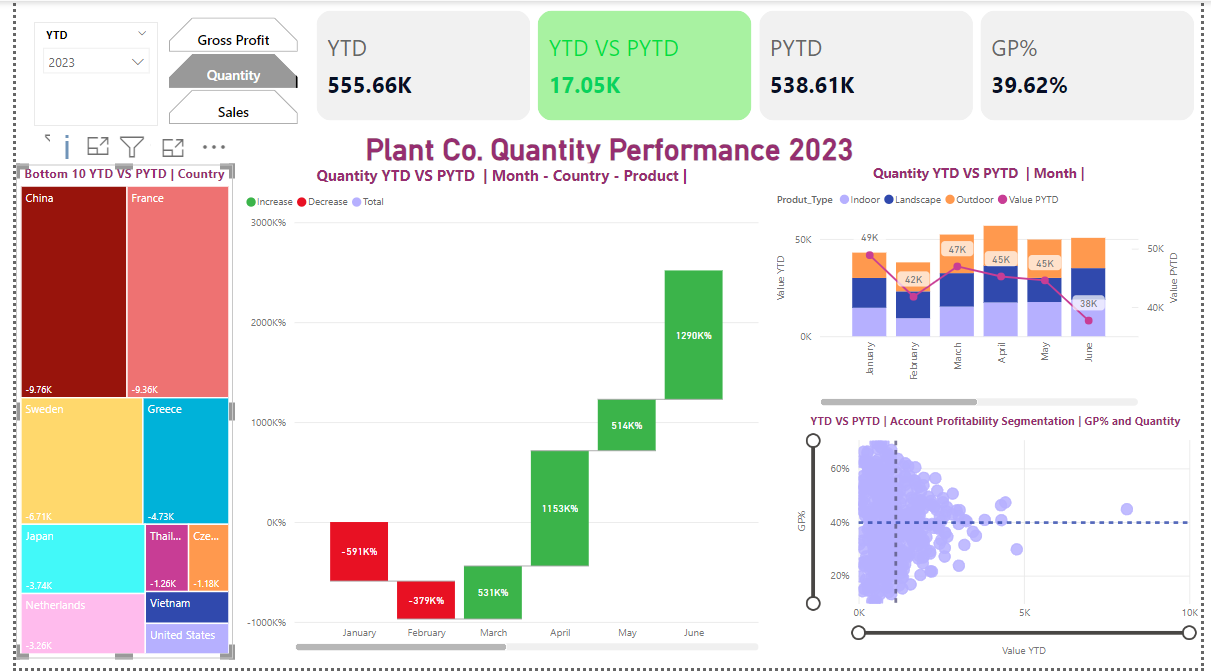

Layout of this report page (visuals, bound fields, positions):
{"tool":"powerbi","page":{"name":"Performance Report Plant Co.","canvas":[1280,720],"ordinal":1},"visuals":[{"type":"advancedSlicerVisual","fields":{"Values":["Slc_Values.Values"]},"box":[165.2,17.8,139.3,116.6],"z":0},{"type":"slicer","title":"YTD","fields":{"Values":["Dim_Date.Date.Variation.Date Hierarchy.Year"]},"box":[19.4,22.7,134.4,111.7],"z":1000},{"type":"treemap","title":"Bottom 10 YTD VS PYTD | Country","fields":{"Group":["Dim_Account.country"],"Values":["_Measures.YTD VS PYTD"]},"box":[0,175.7,234.3,532.9],"z":2000},{"type":"waterfallChart","fields":{"Y":["_Measures.YTD VS PYTD"],"Category":["Dim_Date.Date.Variation.Date Hierarchy.Month","Dim_Account.country","Dim_Product.Produt_Type","Dim_Product.Product_Name"]},"box":[242.9,176.5,563.5,529.5],"z":3000},{"type":"lineStackedColumnComboChart","fields":{"Y":["_Measures.S_YTD"],"Y2":["_Measures.S_PYTD"],"Category":["Dim_Date.Date.Variation.Date Hierarchy.Quarter","Dim_Date.Date.Variation.Date Hierarchy.Month"],"Series":["Dim_Product.Produt_Type"]},"box":[816.7,175,446.7,266.7],"z":4000},{"type":"cardVisual","fields":{"Data":["_Measures.S_YTD","_Measures.YTD VS PYTD","_Measures.S_PYTD","_Measures.GP%"]},"box":[319,4.9,961.8,129.5],"z":5000},{"type":"scatterChart","fields":{"Y":["_Measures.GP%"],"X":["_Measures.S_YTD"],"Category":["Dim_Account.Account"]},"box":[833.3,445,446.7,263.3],"z":6000},{"type":"card","fields":{"Values":["_Measures._Report Title"]},"box":[0,134.4,1280.8,45.3],"z":7000}]}

Visuals, with their boxes on the page's 1280x720 design canvas (x1, y1, x2, y2). These are canvas units, not pixel positions in the 1211x671 screenshot, which may show the page scaled, cropped or inside an application window:
advancedSlicerVisual - Slc_Values.Values: <region>165, 18, 304, 134</region>
"YTD" slicer: <region>19, 23, 154, 134</region>
"Bottom 10 YTD VS PYTD | Country" treemap: <region>0, 176, 234, 709</region>
waterfallChart - _Measures.YTD VS PYTD x Dim_Date.Date.Variation.Date Hierarchy.Month: <region>243, 176, 806, 706</region>
lineStackedColumnComboChart - _Measures.S_YTD x _Measures.S_PYTD: <region>817, 175, 1263, 442</region>
cardVisual - _Measures.S_YTD x _Measures.YTD VS PYTD: <region>319, 5, 1281, 134</region>
scatterChart - _Measures.GP% x _Measures.S_YTD: <region>833, 445, 1280, 708</region>
card - _Measures._Report Title: <region>0, 134, 1281, 180</region>
